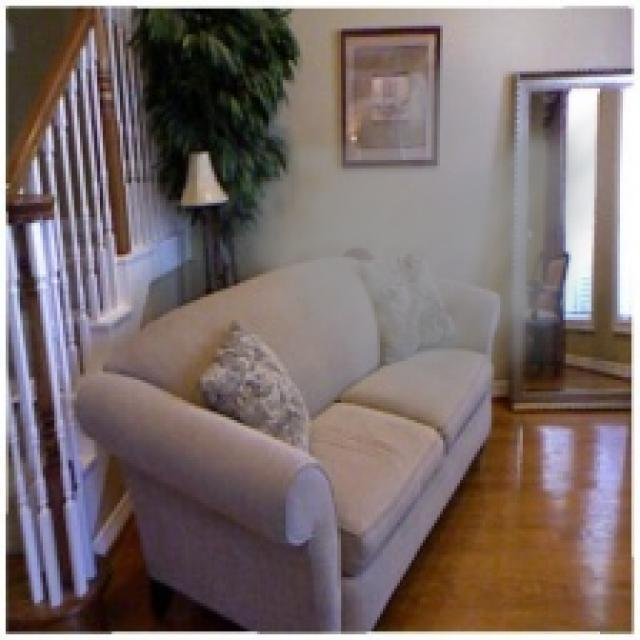Smoke: (206, 34, 603, 446)
